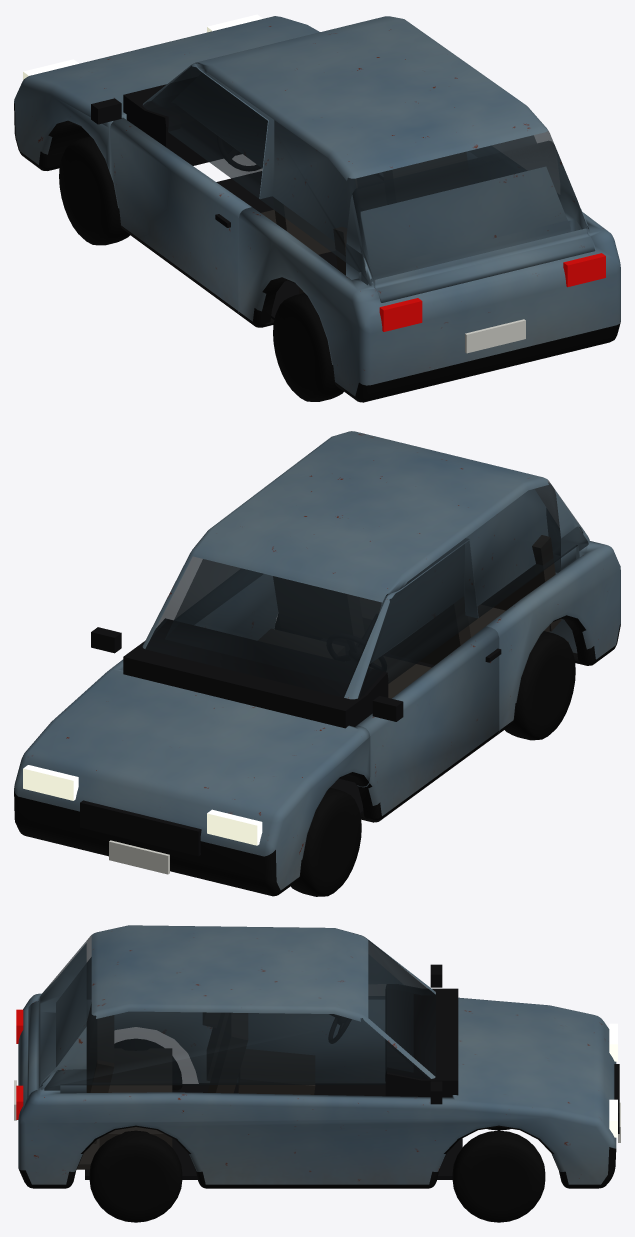
The model's file is hatch.glb.
3 views of the same model, one above another, from view 1: azimuth 30°, elevation 25°; view 2: azimuth 150°, elevation 25°; view 3: azimuth 270°, elevation 25° (orthographic). The views are drawn at different scales.
Parts seen in each view (by area): view 1: Body, Trunk, Door_FL, Interior, Wheel_RL, Wheel_FL; view 2: Body, Interior, Door_FL, Wheel_RL, Wheel_FL, Trunk, SteeringWheel; view 3: Body, Interior, Door_FL, Wheel_FR, Wheel_RR, Trunk, Wheel_RL.
Boxes of the visible parts, left/top/right/bottom form: Body: left=14, top=14, right=620, bottom=402; Trunk: left=346, top=140, right=595, bottom=302; Door_FL: left=91, top=63, right=268, bottom=313; Interior: left=123, top=83, right=466, bottom=319; Wheel_RL: left=273, top=293, right=343, bottom=401; Wheel_FL: left=59, top=136, right=129, bottom=245; Body: left=14, top=431, right=620, bottom=896; Interior: left=123, top=535, right=561, bottom=814; Door_FL: left=344, top=540, right=501, bottom=820; Wheel_RL: left=505, top=631, right=575, bottom=740; Wheel_FL: left=291, top=787, right=361, bottom=896; Trunk: left=535, top=483, right=590, bottom=572; SteeringWheel: left=326, top=614, right=386, bottom=671; Body: left=14, top=925, right=620, bottom=1188; Interior: left=85, top=984, right=462, bottom=1179; Door_FL: left=236, top=935, right=442, bottom=1083; Wheel_FR: left=452, top=1130, right=545, bottom=1222; Wheel_RR: left=89, top=1130, right=182, bottom=1222; Trunk: left=27, top=941, right=86, bottom=1097; Wheel_RL: left=114, top=1039, right=182, bottom=1090.
Size of the model in its own units: 2.06 by 1.58 by 4.18.
12 materials, 3 textured.
